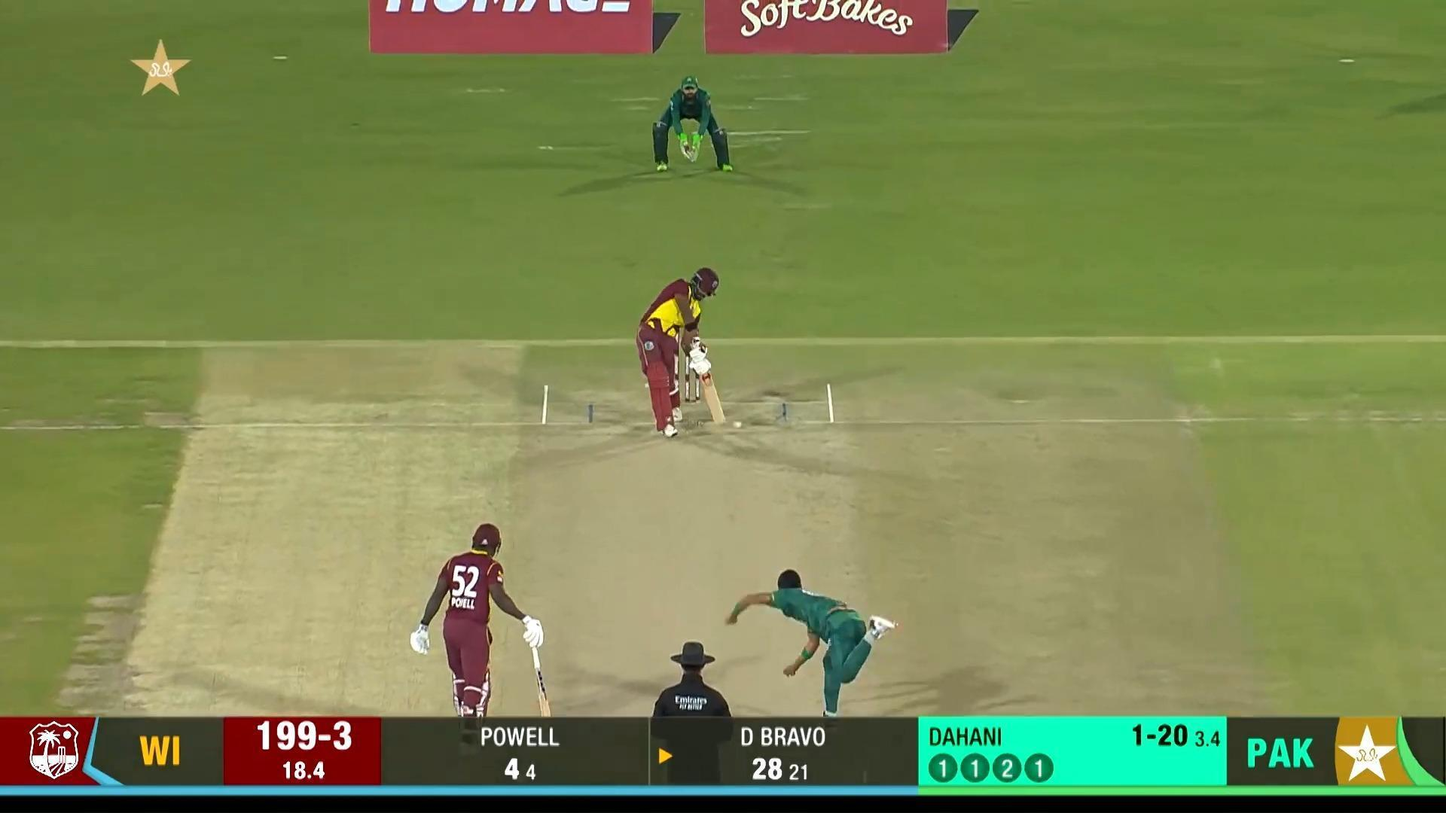BM 1: (635, 264, 728, 440)
BO: (726, 568, 899, 715)
